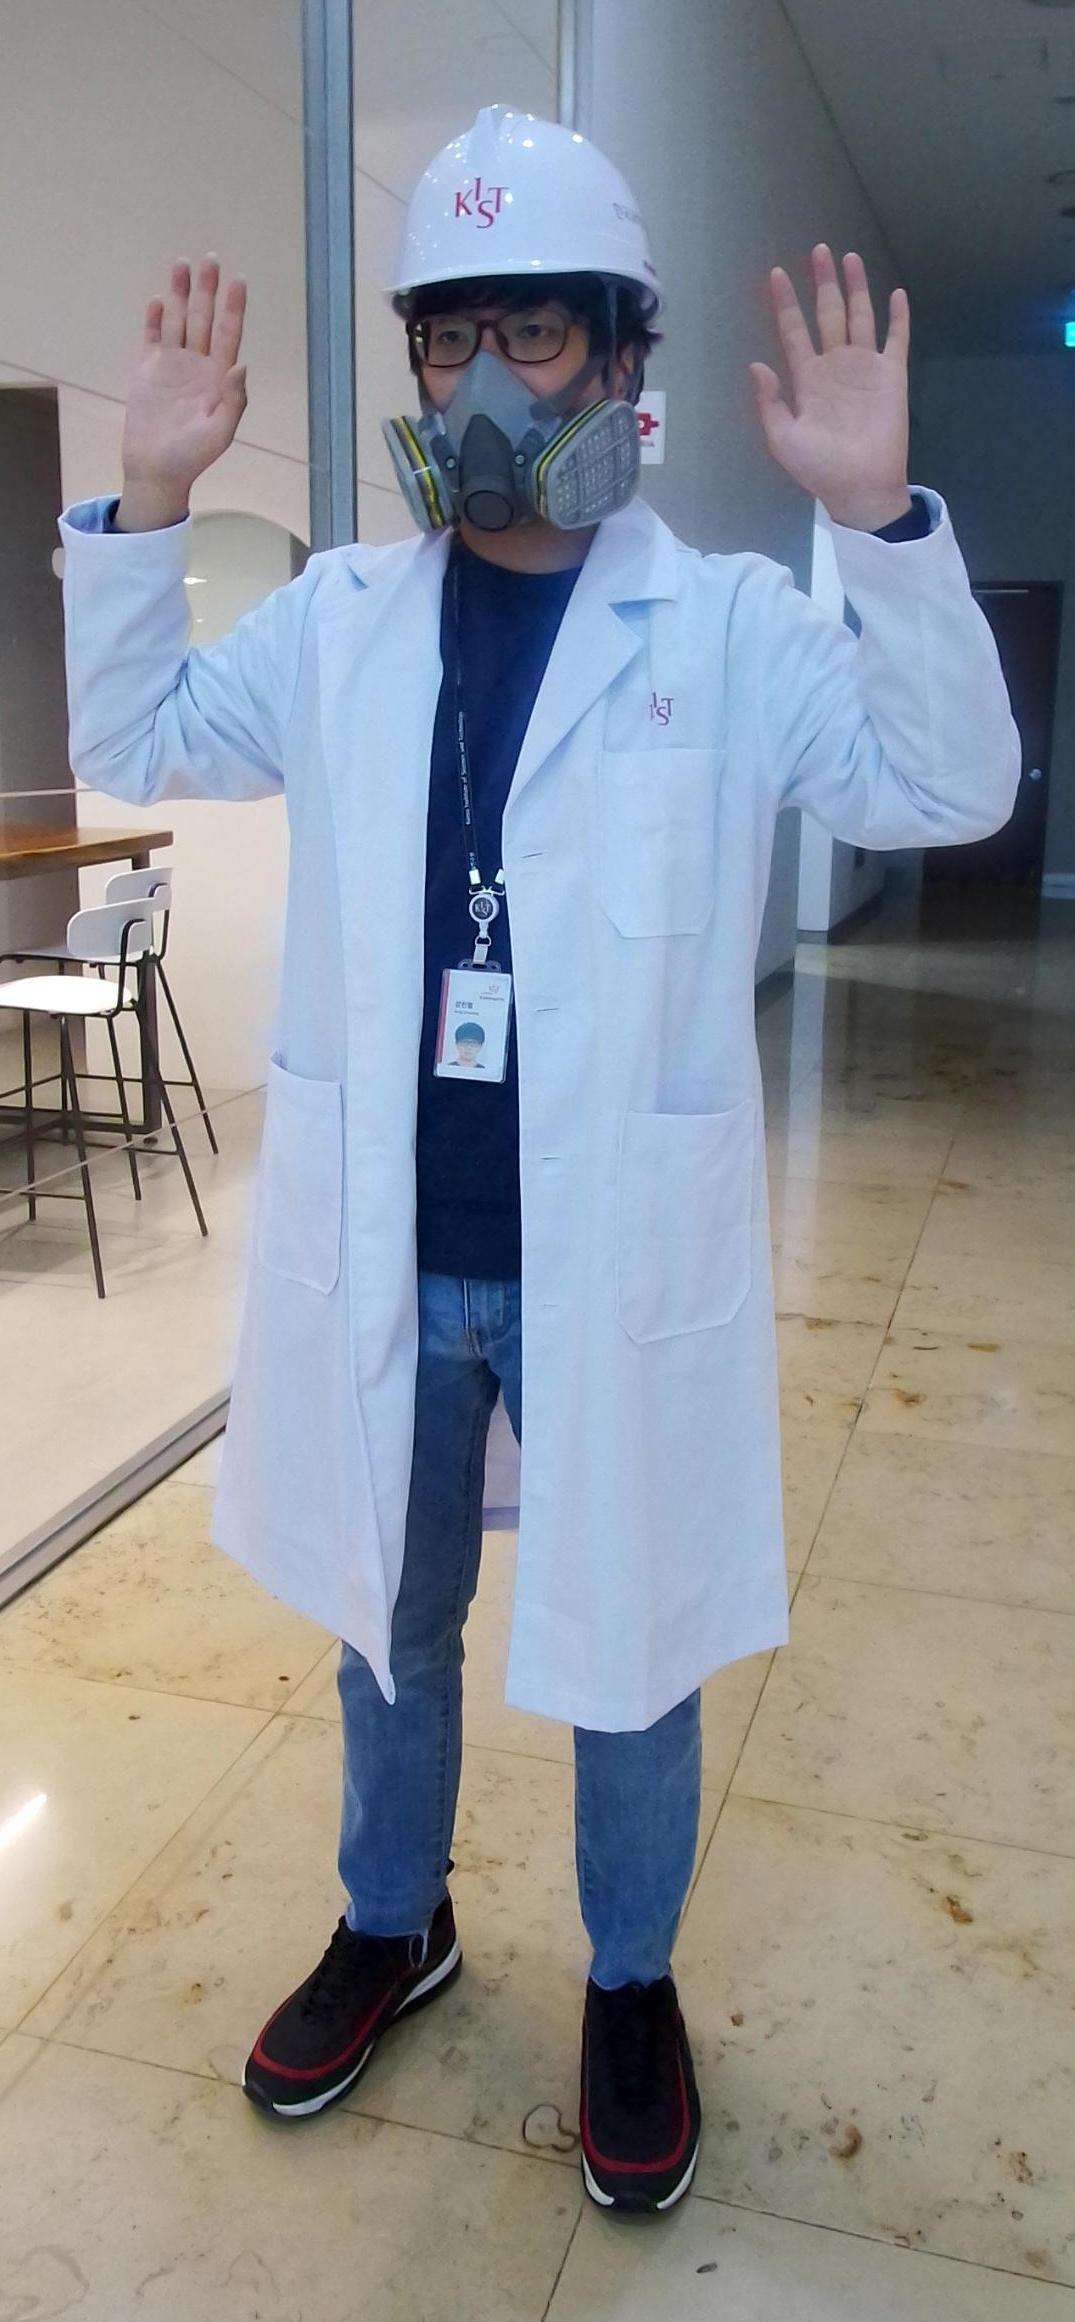lab_coat: (77, 551, 936, 1636)
